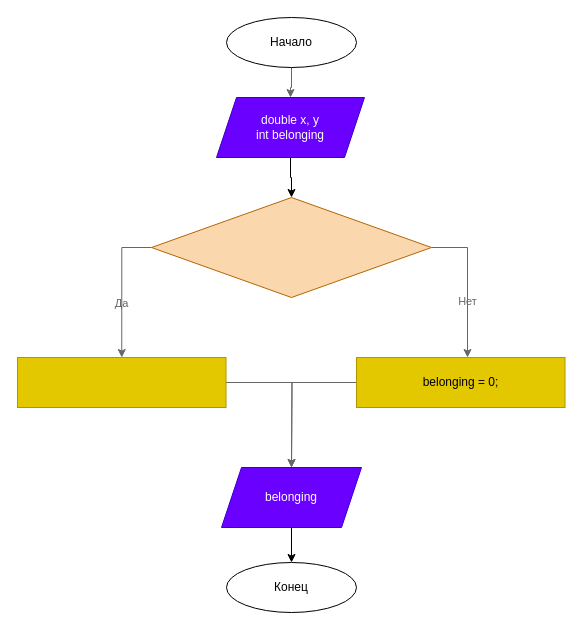
This 583x630 diagram has some shape labels left out. Here are the shapes that lost their labels. From the top down, the box of each, then its label:
(150, 196, 432, 298): (x >= 2.0) && (4.0 * x + 3.0 * y <= 23.0) && (5.0 * x - 3.0 * y <= 22.0)
(16, 356, 226, 408): belonging = 1;
